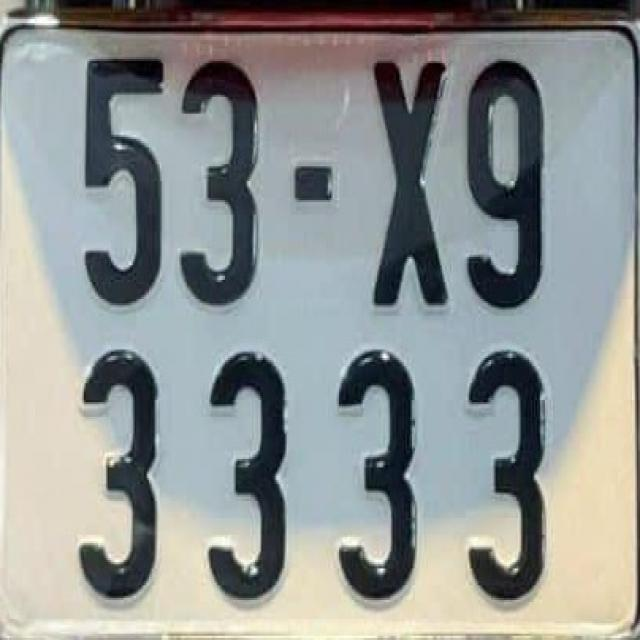3: (458, 341, 554, 608), (330, 336, 424, 606), (200, 340, 294, 606), (72, 341, 166, 604), (174, 51, 266, 310)
5: (74, 46, 170, 310)
9: (459, 50, 552, 314)
X: (362, 48, 454, 316)
